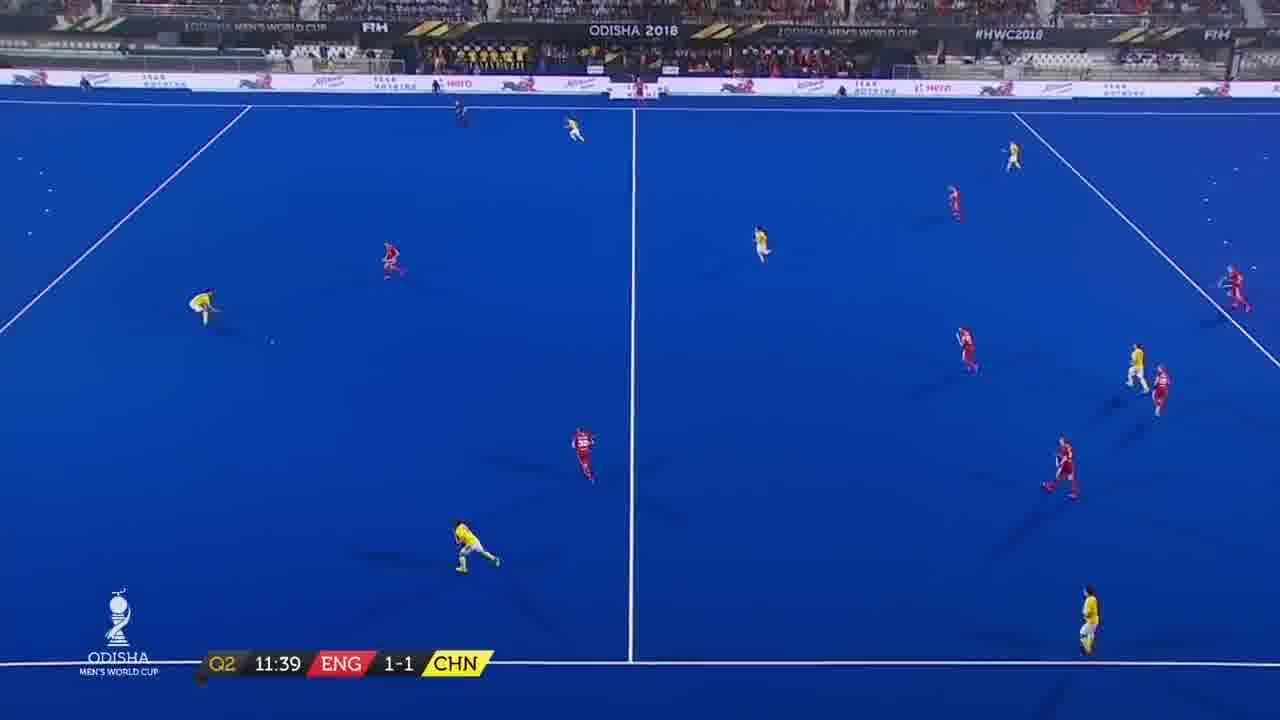ball: (266, 335, 279, 348)
